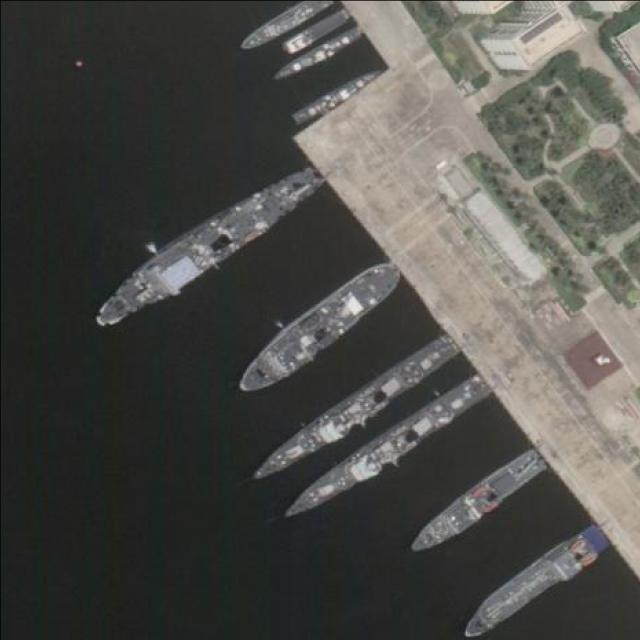Frigate: (404, 445, 547, 563)
Other Warship: (86, 149, 324, 343), (277, 372, 492, 531), (246, 333, 462, 491), (224, 253, 408, 405), (460, 520, 608, 640), (267, 23, 362, 88), (291, 63, 383, 126), (282, 8, 351, 58)
